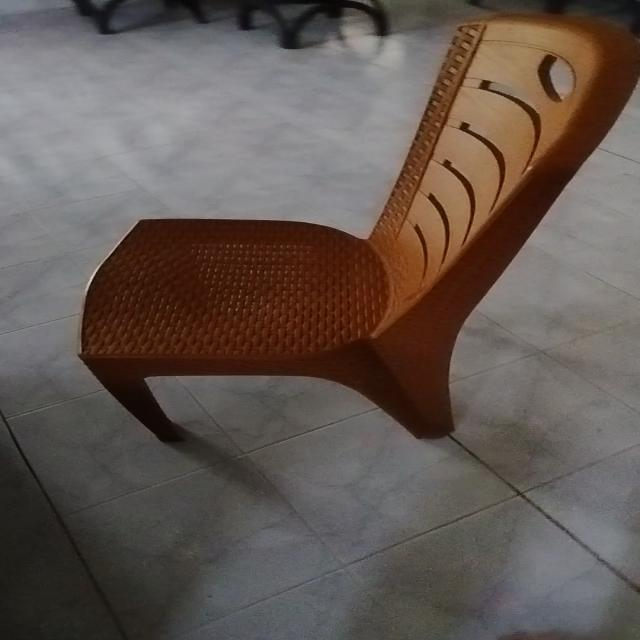chair: (78, 13, 638, 447)
